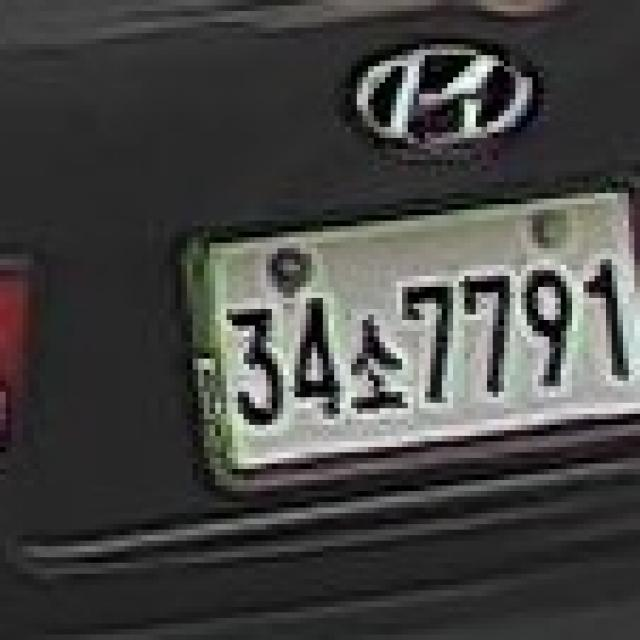1: (578, 259, 634, 386)
3: (226, 304, 289, 431)
4: (289, 298, 345, 414)
7: (453, 270, 515, 398), (402, 281, 459, 403)
9: (515, 265, 578, 381)
license_plate: (192, 182, 640, 480)
so: (340, 309, 408, 419)
